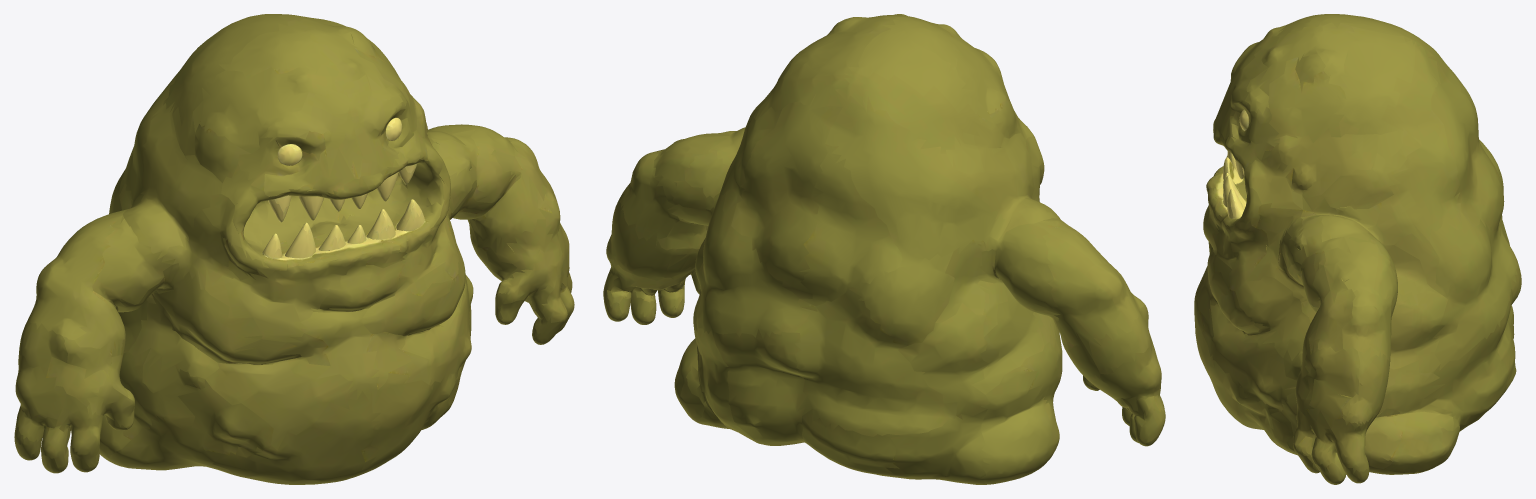
File: hepatitis.glb
The picture shows the model from 3 angles, left to right: view 1: azimuth 30°, elevation 25°; view 2: azimuth 150°, elevation 25°; view 3: azimuth 270°, elevation 25°; orthographic projection. The views are drawn at different scales.
Size of the model in its own units: 1.9 by 1.35 by 1.03.
1 material, 1 textured.
